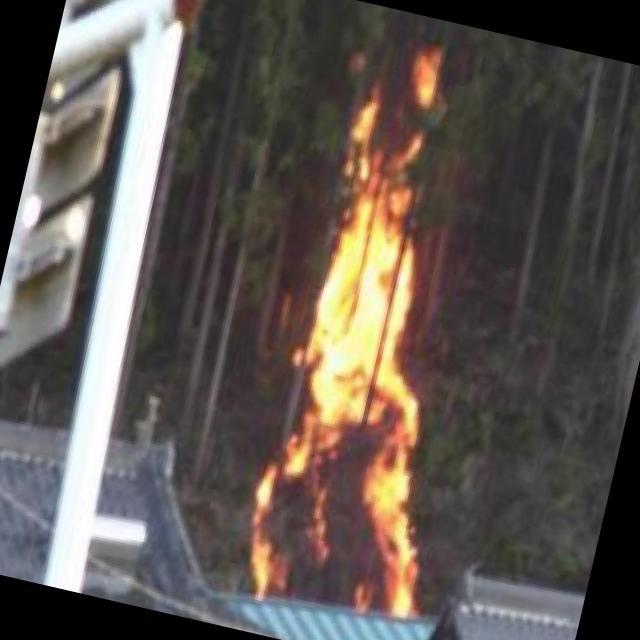Fire: (232, 45, 478, 618)
